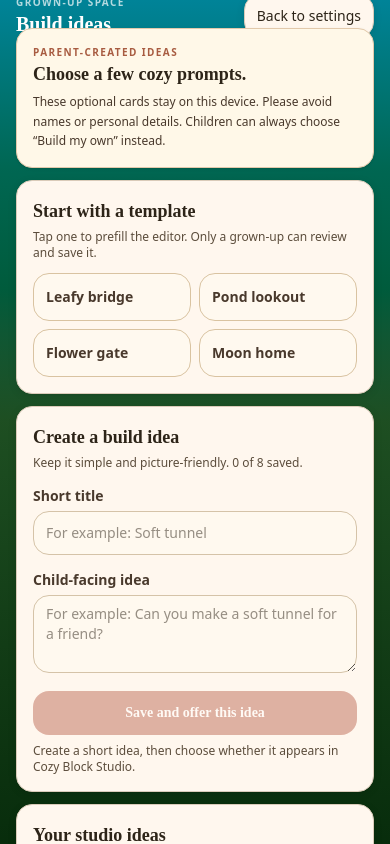
Test: ParentBuildPromptsScreen › prefills a parent template but does not offer it to the child until the adult explicitly saves it
Click the button with aria-label "Use Leafy bridge template" at [112, 296], box [33,272,191,320]
(page scrolled)
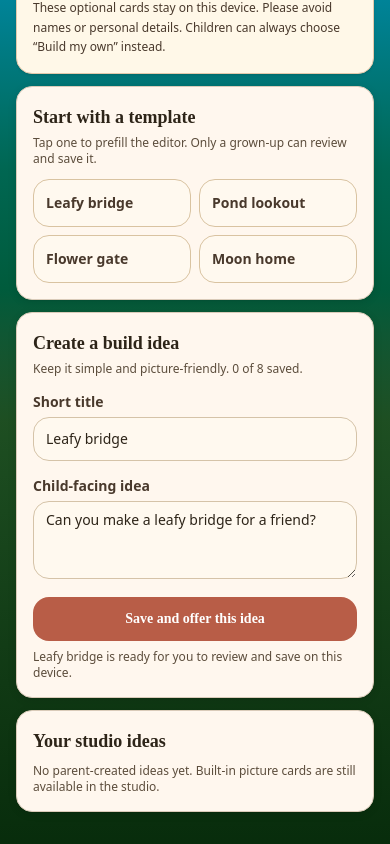
Now the field named "Custom build prompt title" holds "Leafy bridge", box [33,416,357,460]
Now the text box named "Custom child-facing build idea" holds "Can you make a leafy bridge for a friend?", box [33,500,357,578]
Now the text "Leafy bridge is ready for you to review and save on this device." is shown, box [33,648,357,680]
